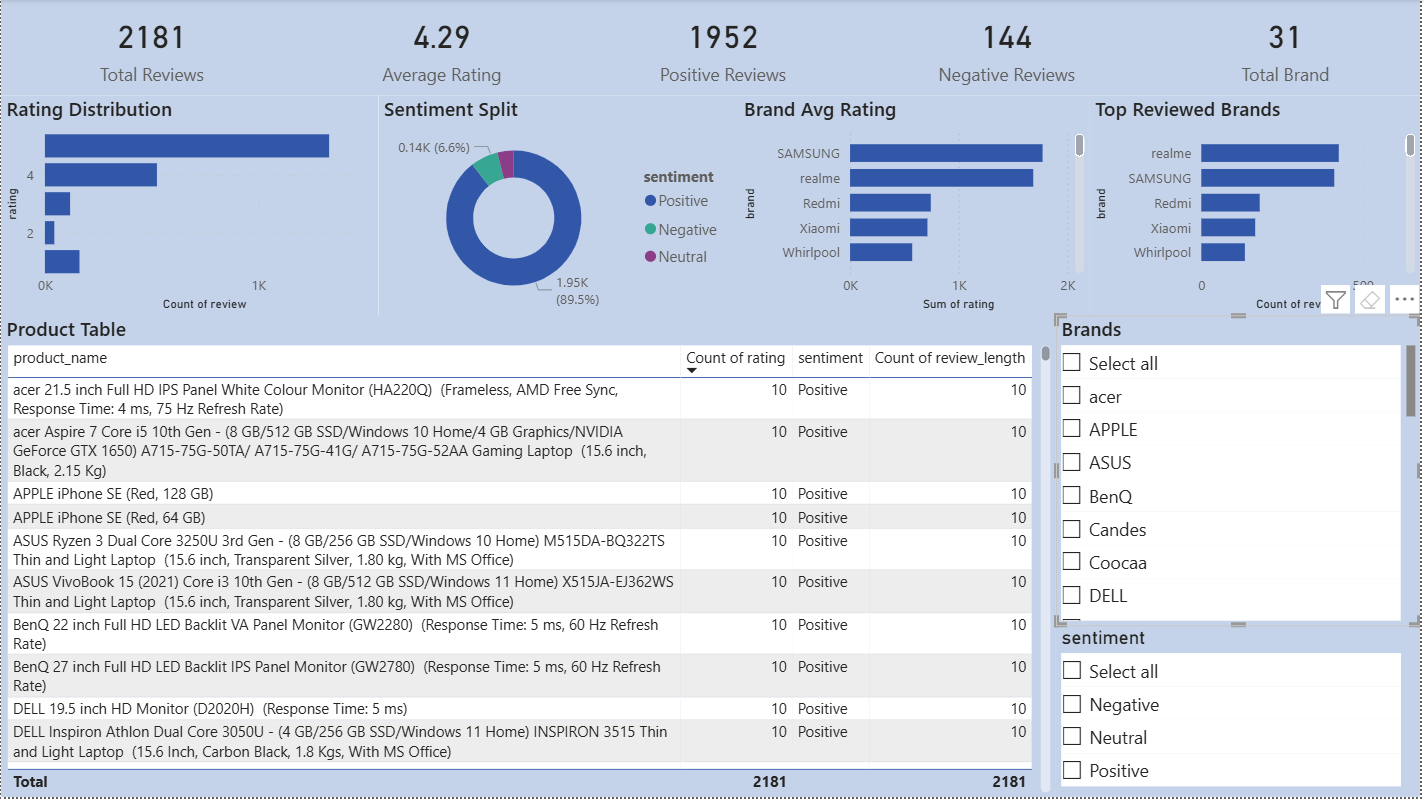

This screenshot's page, from the dashboard's own definition file:
{"tool":"powerbi","page":{"name":"Page 1","canvas":[1280,720],"ordinal":0},"visuals":[{"type":"card","fields":{"Values":["CountNonNull(flipkart_final.review)"]},"box":[0,0,272.5,86.8],"z":0,"group":"g1"},{"type":"clusteredBarChart","title":"Rating Distribution","fields":{"Category":["flipkart_final.rating"],"Y":["CountNonNull(flipkart_final.review)"]},"box":[0,86.8,340.4,199.5],"z":0,"group":"g2"},{"type":"card","fields":{"Values":["Avg(flipkart_final.rating)"]},"box":[272.5,0,250,86.8],"z":1000,"group":"g1"},{"type":"donutChart","title":"Sentiment Split","fields":{"Category":["flipkart_final.sentiment"],"Y":["CountNonNull(flipkart_final.review)"]},"box":[339.9,86.8,325.3,199.3],"z":1000,"group":"g2"},{"type":"card","fields":{"Values":["flipkart_final.Positive Reviews"]},"box":[522.5,0,256.4,86.8],"z":2000,"group":"g1"},{"type":"clusteredBarChart","title":"Brand Avg Rating","fields":{"Category":["flipkart_final.brand"],"Y":["Sum(flipkart_final.rating)"]},"box":[665.2,86.8,316.7,199.3],"z":2000,"group":"g2"},{"type":"card","fields":{"Values":["flipkart_final.Negative Reviews"]},"box":[778.9,0,256.4,86.8],"z":3000,"group":"g1"},{"type":"clusteredBarChart","title":"Top Reviewed Brands","fields":{"Category":["flipkart_final.brand"],"Y":["CountNonNull(flipkart_final.review)"]},"box":[981.9,86.8,298.4,199.3],"z":3000,"group":"g2"},{"type":"card","fields":{"Values":["Count(flipkart_final.brand)"]},"box":[1035.3,0,245.1,86.8],"z":4000,"group":"g1"},{"type":"tableEx","title":"Product Table","fields":{"Values":["flipkart_final.product_name","CountNonNull(flipkart_final.rating)","flipkart_final.sentiment","CountNonNull(flipkart_final.review_length)"]},"box":[0,285.2,951.3,435.1],"z":4000},{"type":"group","id":"g1","title":"Group 1","box":[0,0,1280.4,86.8],"z":5000},{"type":"group","id":"g2","title":"Group 2","box":[0,86.8,1280.3,199.5],"z":5001},{"type":"listSlicer","title":"Brands","fields":{"Values":["flipkart_final.brand"]},"box":[951.2,284.9,329.1,281.4],"z":5002},{"type":"listSlicer","fields":{"Values":["flipkart_final.sentiment"]},"box":[951.2,566.3,329.1,153.5],"z":5003}]}

Visuals, with their boxes in screenshot pixels (x1, y1, x2, y2), scaled from the page's 1280x720 canvas onto the 1424x799 screenshot:
card - CountNonNull(flipkart_final.review): (0, 0, 303, 96)
"Rating Distribution" clusteredBarChart: (0, 96, 379, 318)
card - Avg(flipkart_final.rating): (303, 0, 581, 96)
"Sentiment Split" donutChart: (378, 96, 740, 317)
card - flipkart_final.Positive Reviews: (581, 0, 867, 96)
"Brand Avg Rating" clusteredBarChart: (740, 96, 1092, 317)
card - flipkart_final.Negative Reviews: (867, 0, 1152, 96)
"Top Reviewed Brands" clusteredBarChart: (1092, 96, 1423, 317)
card - Count(flipkart_final.brand): (1152, 0, 1423, 96)
"Product Table" tableEx: (0, 316, 1058, 798)
"Group 1" group: (0, 0, 1423, 96)
"Group 2" group: (0, 96, 1423, 318)
"Brands" listSlicer: (1058, 316, 1423, 628)
listSlicer - flipkart_final.sentiment: (1058, 628, 1423, 798)
